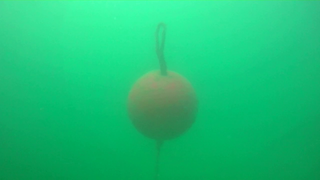buoy: (126, 70, 198, 141)
